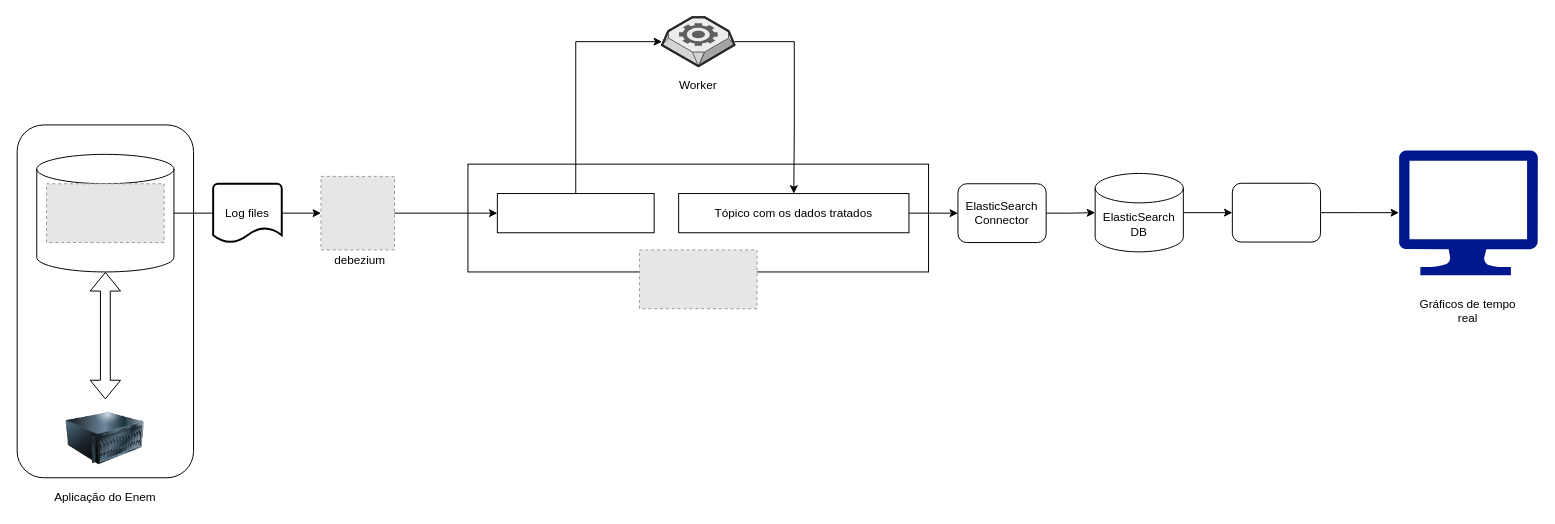
Some shapes in this 1555 by 524 pixel diagram are drawn without their labels. Grey dashed boxes stand in for pictures. The shapes that lost their labels are listed below. From the top down, each one's centre as x and y in pixels, then its label:
(575,213): Tópico com os dados raw
(1276,212): Kibana Dashboard
